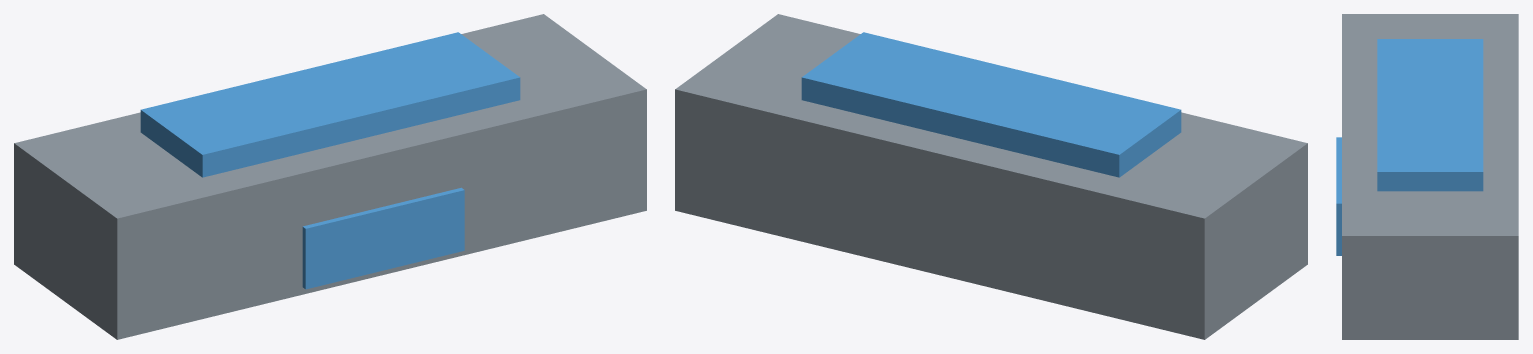
The model's file is AL_MantaPatrolCraft_LOD0.glb.
3 renders of one model, left to right at view 1: azimuth 30°, elevation 25°; view 2: azimuth 150°, elevation 25°; view 3: azimuth 270°, elevation 25°, orthographic. The views are drawn at different scales.
Visible parts, largest first — view 1: EntranceGate; view 2: EntranceGate; view 3: EntranceGate.
Boxes of the visible parts, bbox=[...] form: EntranceGate: bbox=[14, 14, 646, 339]; EntranceGate: bbox=[675, 14, 1307, 339]; EntranceGate: bbox=[1336, 14, 1518, 339].
Bounding box in the file's own units: 950 × 247 × 330.
